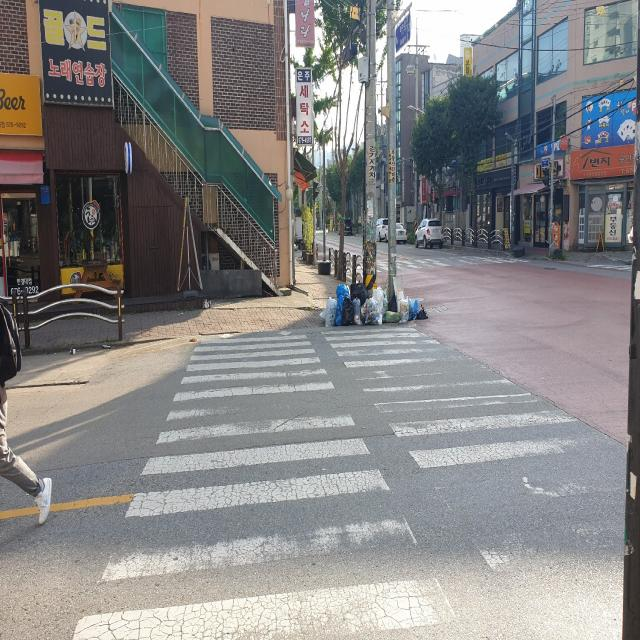횡단보도: (70, 322, 628, 640)
